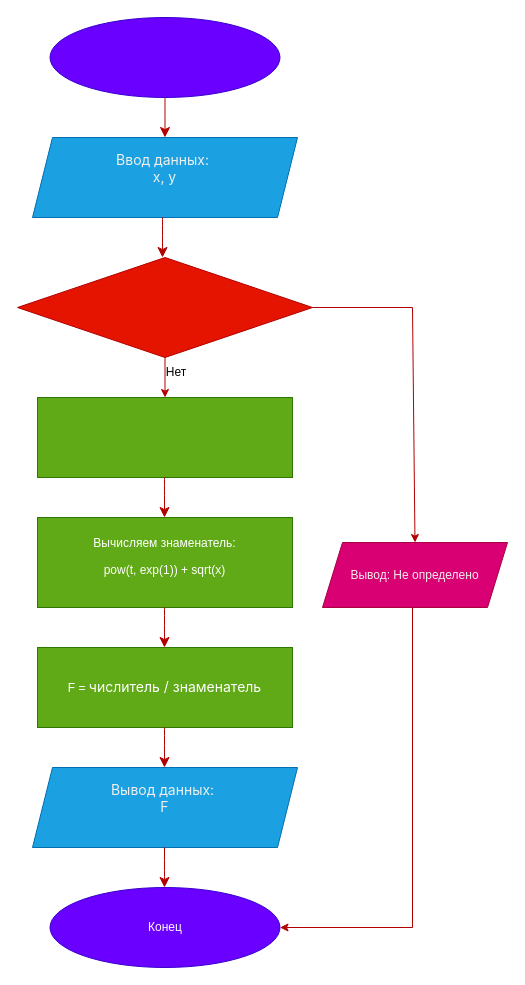
This 525x985 diagram has some shape labels left out. Each missing label, with the box of its shape:
Вычисляем числитель: pow(sin(x),3) + log(2 * y + 3 * x): (36, 396, 292, 478)
Начало: (49, 16, 280, 98)
Проверка: x = 0 или 2 * y + 3 * x <= 0?: (16, 256, 312, 358)
